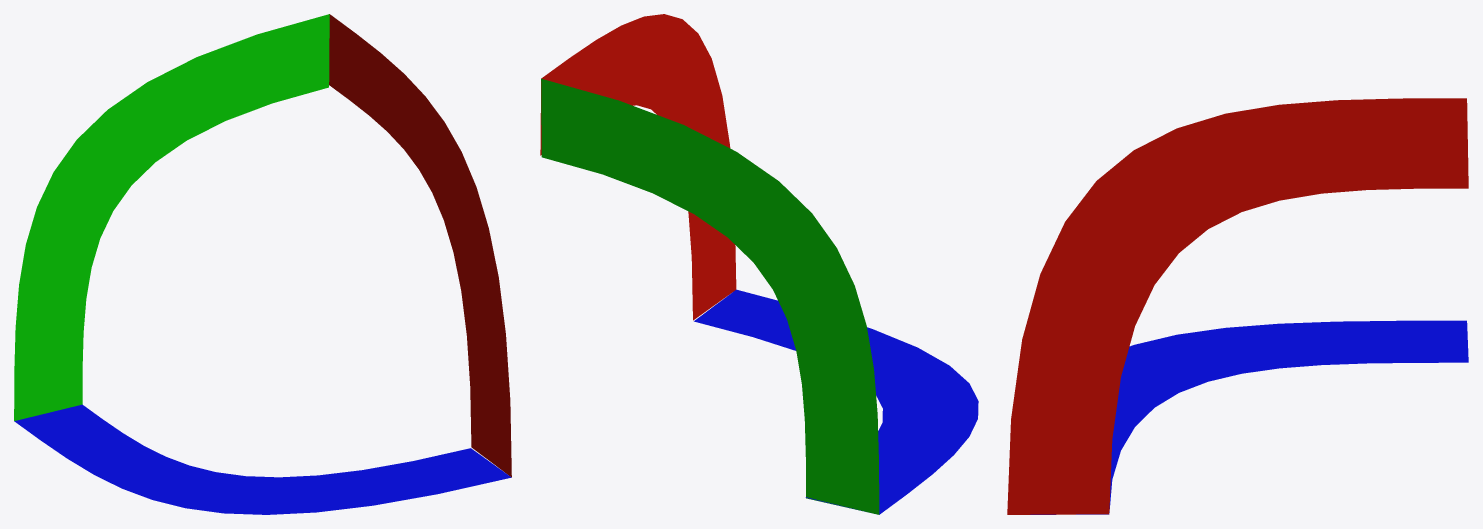
File: Gizmo_Curves.fbx
3 renders of one model, left to right at view 1: azimuth 30°, elevation 25°; view 2: azimuth 150°, elevation 25°; view 3: azimuth 270°, elevation 25°, orthographic. The views are drawn at different scales.
Visible parts, largest first — view 1: BezierCurve.003, BezierCurve.002, BezierCurve.001; view 2: BezierCurve.003, BezierCurve.002, BezierCurve.001; view 3: BezierCurve.002, BezierCurve.001.
Part boxes in pixels (<box>): BezierCurve.003: <box>14,14,329,420</box>; BezierCurve.002: <box>329,14,511,477</box>; BezierCurve.001: <box>14,404,511,514</box>; BezierCurve.003: <box>541,78,879,514</box>; BezierCurve.002: <box>540,14,736,320</box>; BezierCurve.001: <box>694,289,978,514</box>; BezierCurve.002: <box>1007,98,1468,514</box>; BezierCurve.001: <box>1030,320,1468,514</box>.
Size of the model in its own units: 100 by 100 by 100.
